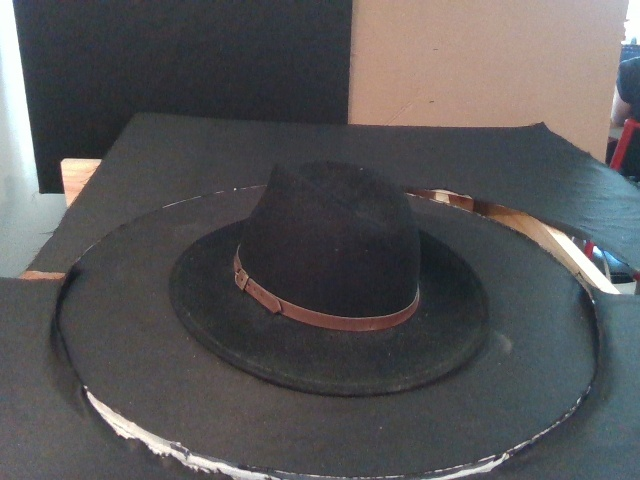hat: (172, 159, 491, 398)
